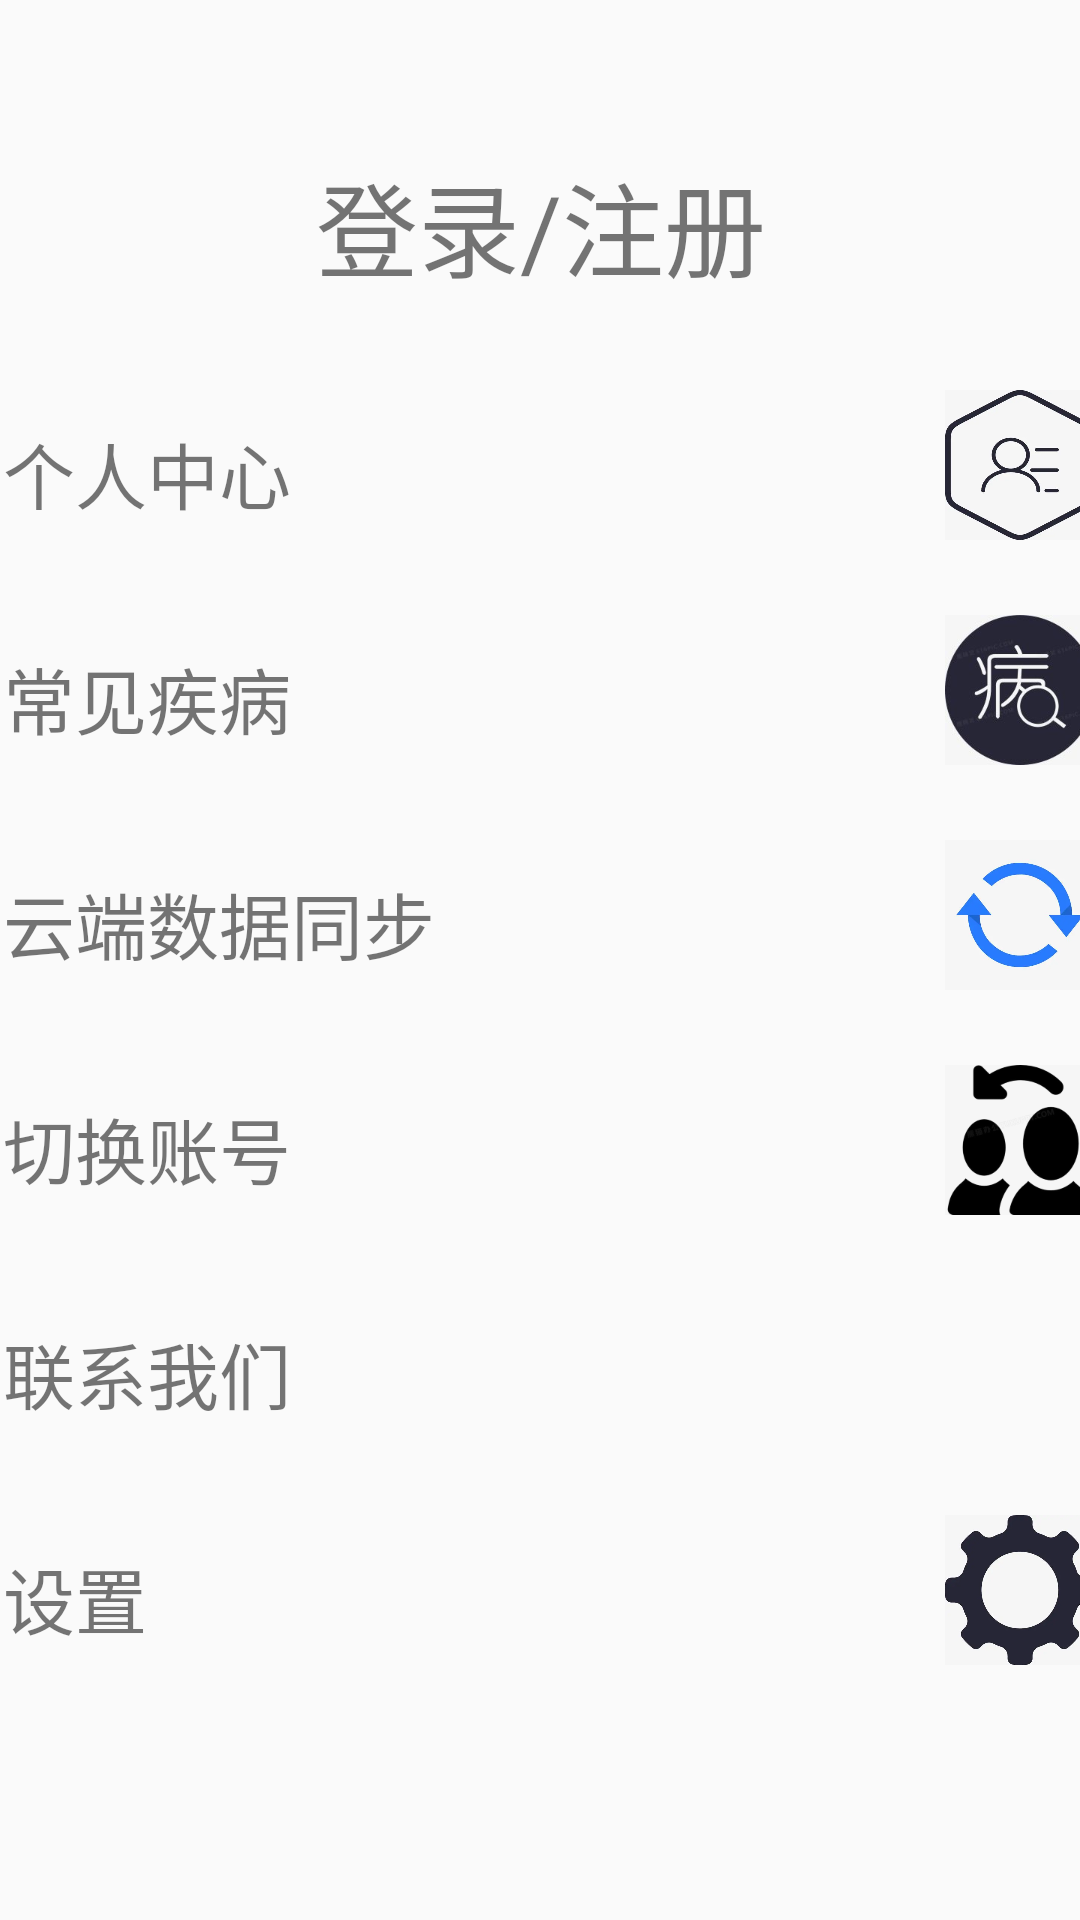

Screen size 1080w x 1920h. Icon name, then its center in pixels as point (x, y):
exchange: point (1013, 1140)
individual: point (1012, 465)
setting: point (1012, 1590)
sync: point (1018, 915)
